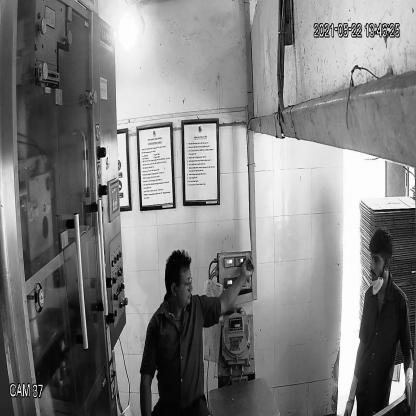goggles: (165, 273, 196, 293)
no_goggles: (369, 251, 390, 270)
